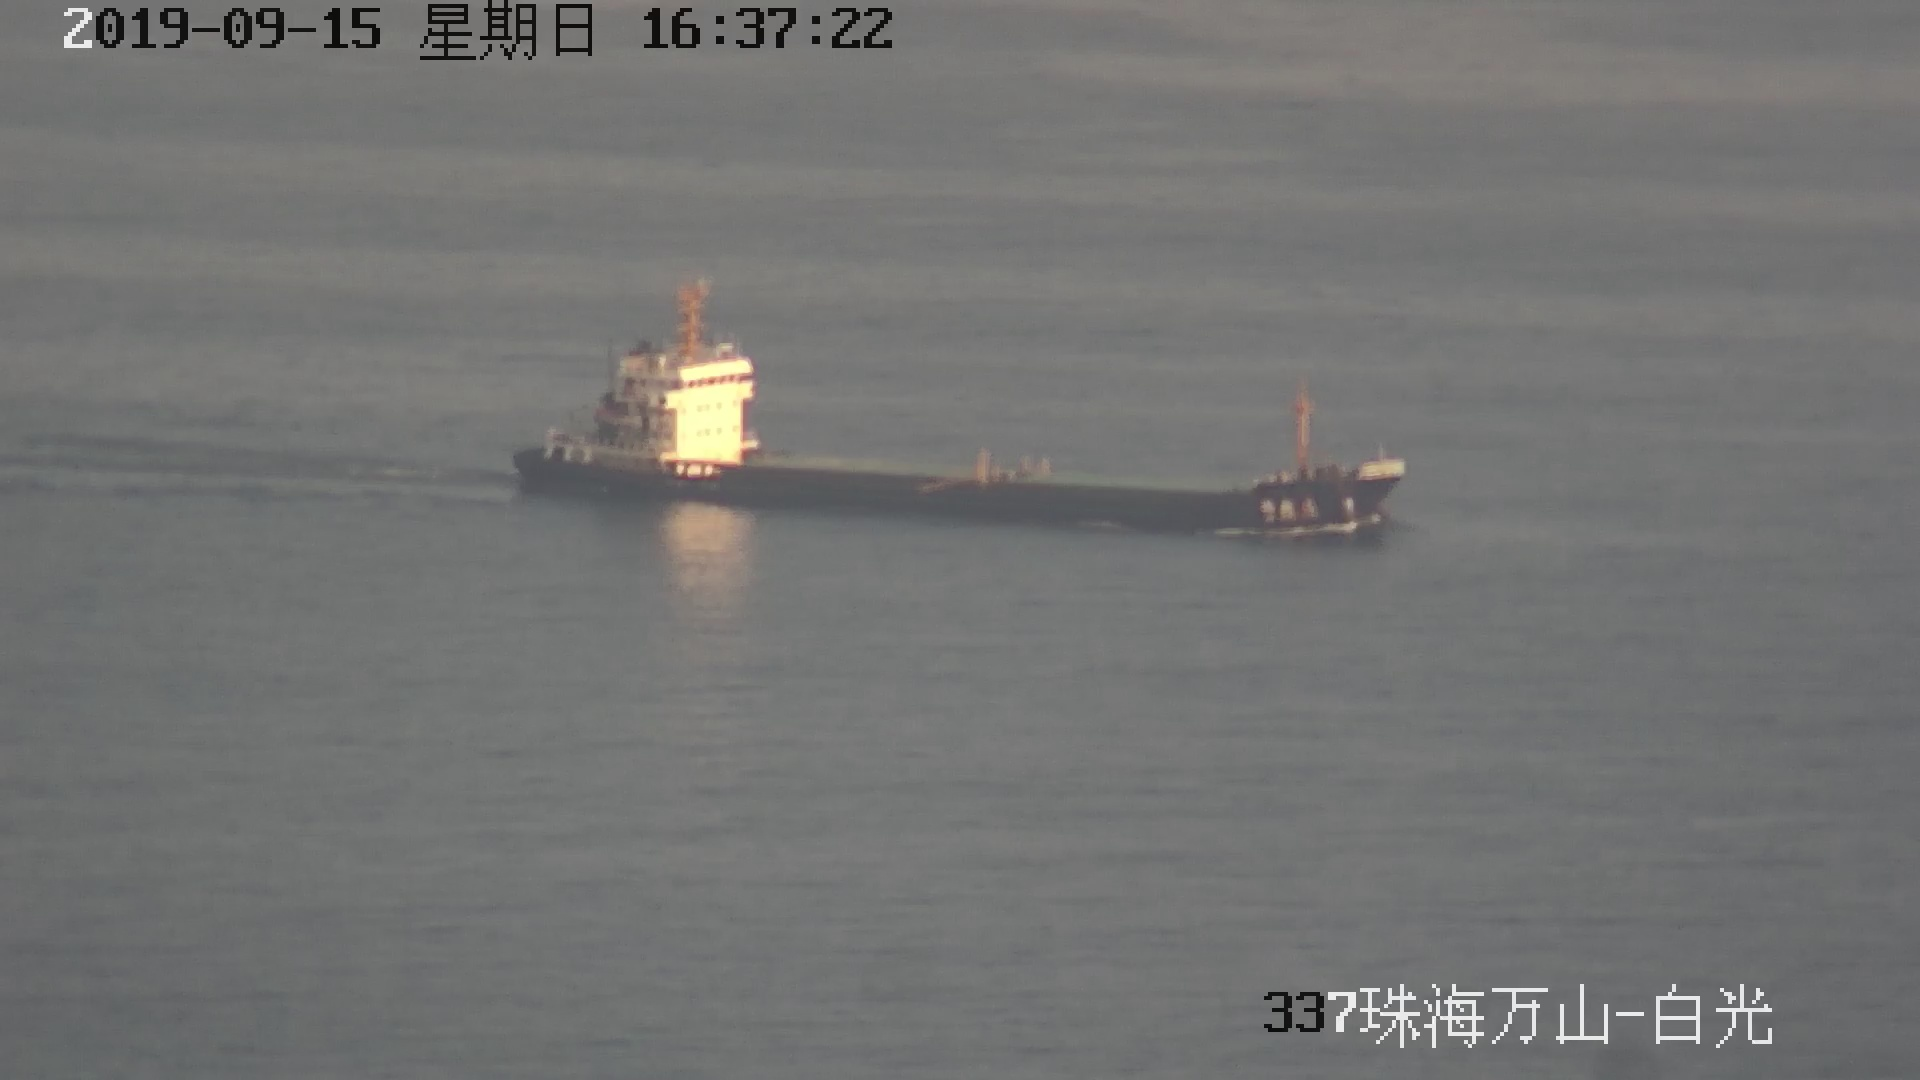ship: (512, 284, 1406, 543)
